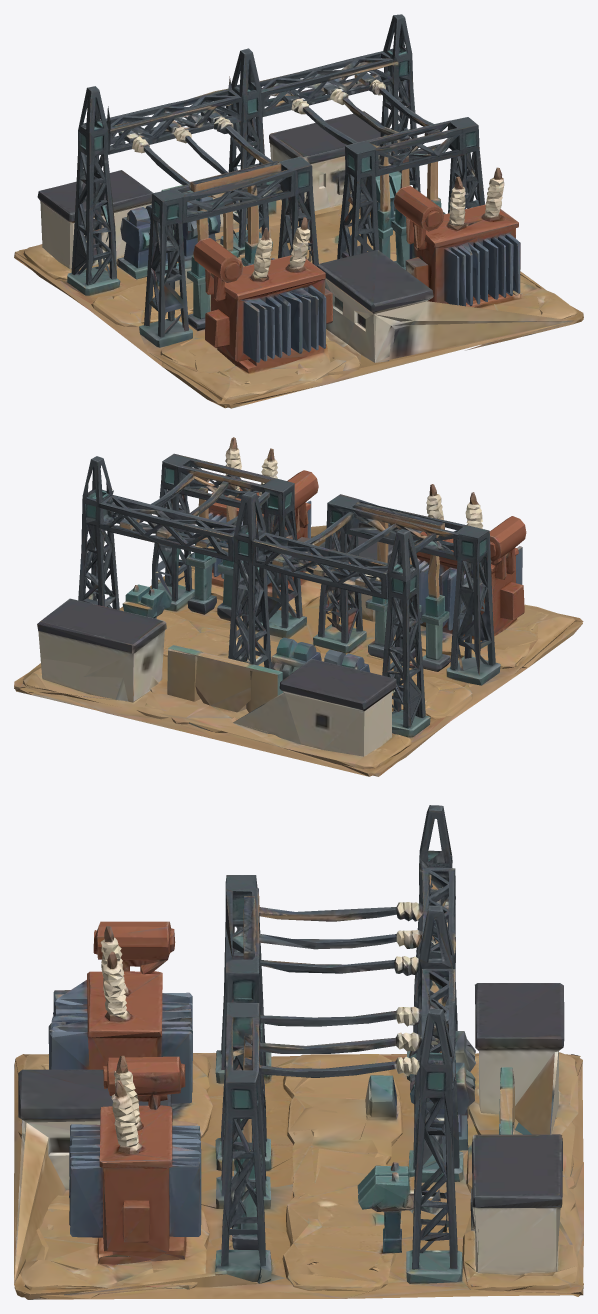
File: substation.glb
3 renders of one model, top to bottom at view 1: azimuth 30°, elevation 25°; view 2: azimuth 150°, elevation 25°; view 3: azimuth 270°, elevation 25°, orthographic. The views are drawn at different scales.
Size of the model in its own units: 1.9 by 0.9941 by 1.9.
Materials: 1 (1 with a texture image).
